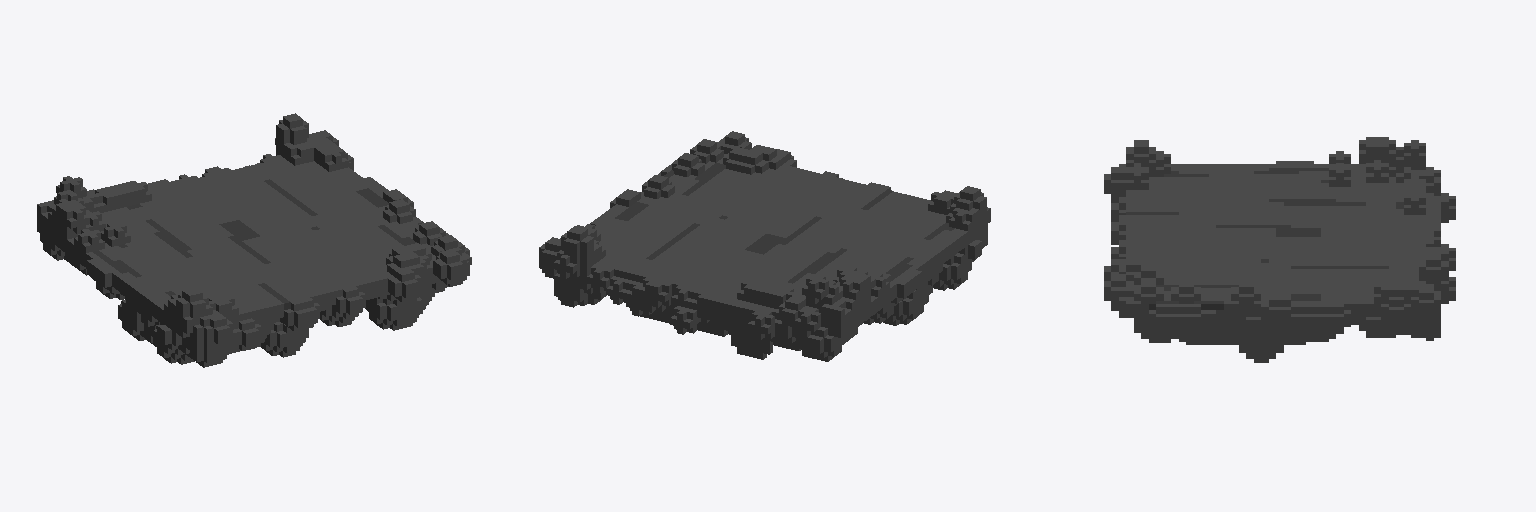
3 views of the same model, side by side, from view 1: azimuth 30°, elevation 25°; view 2: azimuth 150°, elevation 25°; view 3: azimuth 270°, elevation 25° (orthographic).
Visible parts, largest first — view 1: Model; view 2: Model; view 3: Model.
Boxes of the visible parts, box(x1,y1,x2,y2) form: Model: box(37, 113, 471, 367); Model: box(539, 131, 990, 361); Model: box(1104, 137, 1455, 362).
Size of the model in its own units: 32 by 10.89 by 32.
Materials: 1 (1 with a texture image).